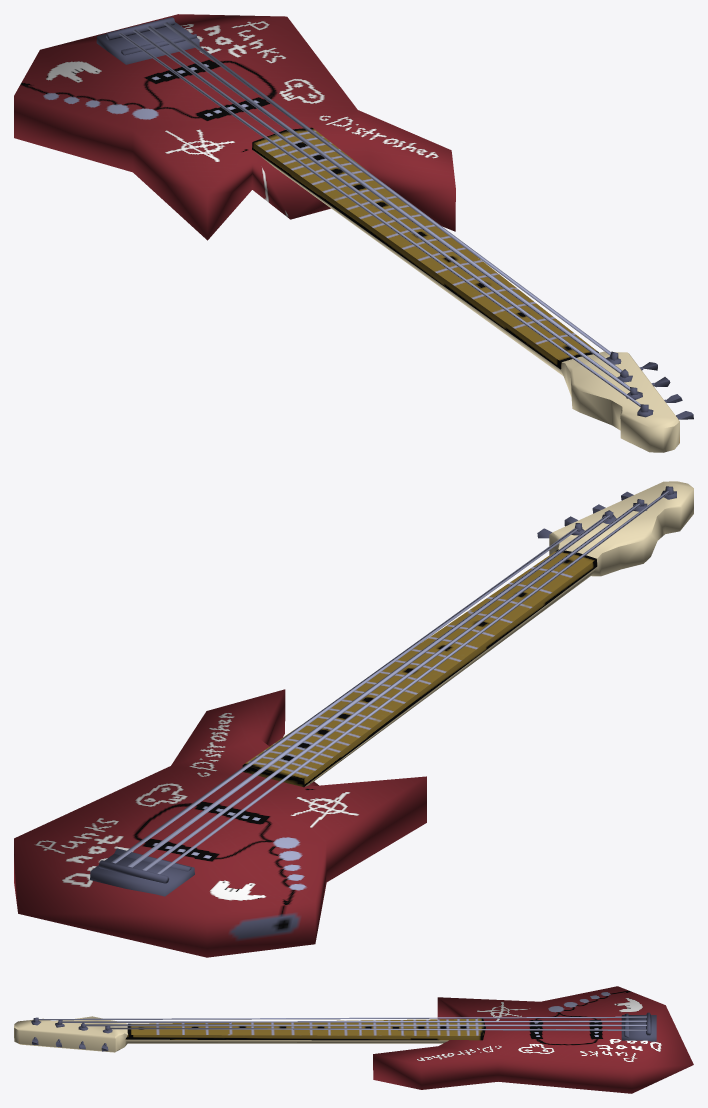
The model's file is ГИТАРА БАС_игры.fbx.
3 renders of one model, top to bottom at view 1: azimuth 30°, elevation 25°; view 2: azimuth 150°, elevation 25°; view 3: azimuth 270°, elevation 25°, orthographic. The views are drawn at different scales.
Parts seen in each view (by area): view 1: Цилиндр.002; view 2: Цилиндр.002; view 3: Цилиндр.002.
Boxes of the visible parts, bbox=[...] form: Цилиндр.002: bbox=[14, 14, 693, 452]; Цилиндр.002: bbox=[14, 481, 693, 957]; Цилиндр.002: bbox=[14, 986, 693, 1093].
Bounding box in the file's own units: 1.45 × 0.2891 × 5.04.
